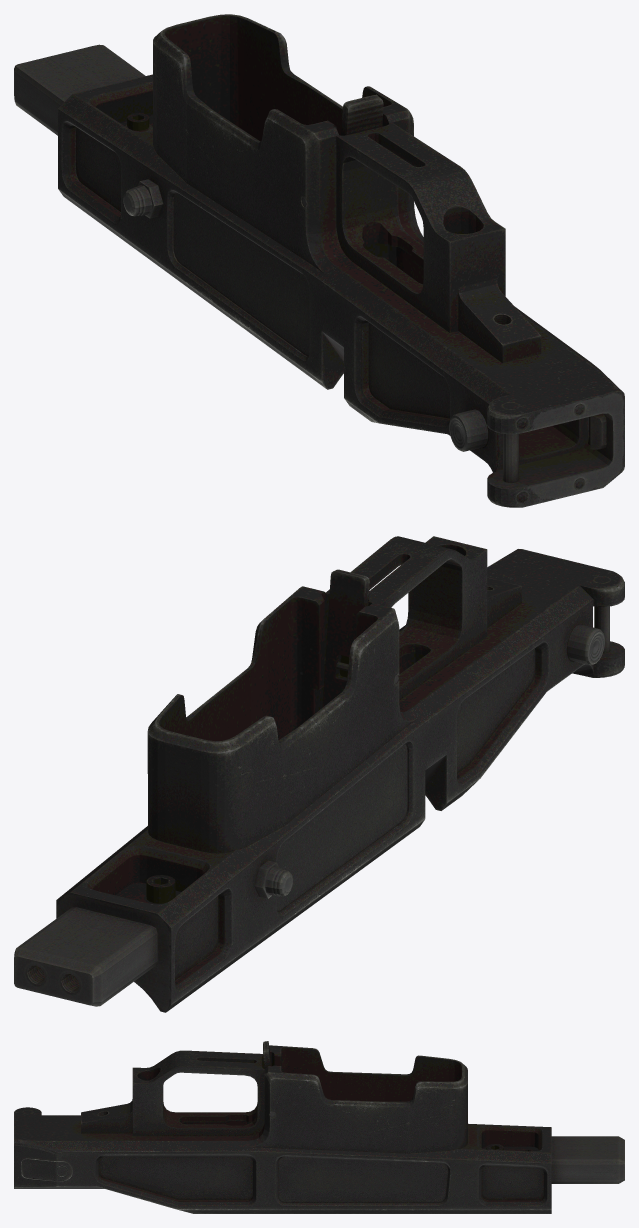
The picture shows the model from 3 angles, top to bottom: view 1: azimuth 30°, elevation 25°; view 2: azimuth 150°, elevation 25°; view 3: azimuth 270°, elevation 25°; orthographic projection. The views are drawn at different scales.
Parts seen in each view (by area): view 1: TW_5df35e59c41b2312ea3334d5_PZ_Import; view 2: TW_5df35e59c41b2312ea3334d5_PZ_Import; view 3: TW_5df35e59c41b2312ea3334d5_PZ_Import.
Boxes of the visible parts, x1=… form: TW_5df35e59c41b2312ea3334d5_PZ_Import: x1=14, y1=14, x2=624, y2=507; TW_5df35e59c41b2312ea3334d5_PZ_Import: x1=14, y1=536, x2=624, y2=1012; TW_5df35e59c41b2312ea3334d5_PZ_Import: x1=14, y1=1041, x2=624, y2=1213.
Bounding box in the file's own units: 0.0282 × 0.1767 × 0.049.
1 material, 1 textured.
